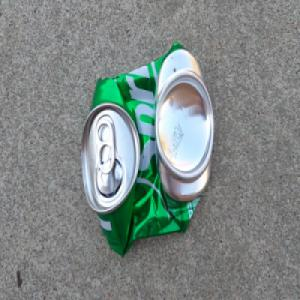SodaCan: (80, 40, 214, 259)
